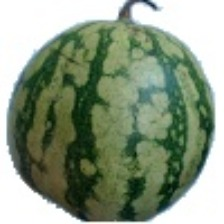watermelon: (21, 16, 175, 164)
